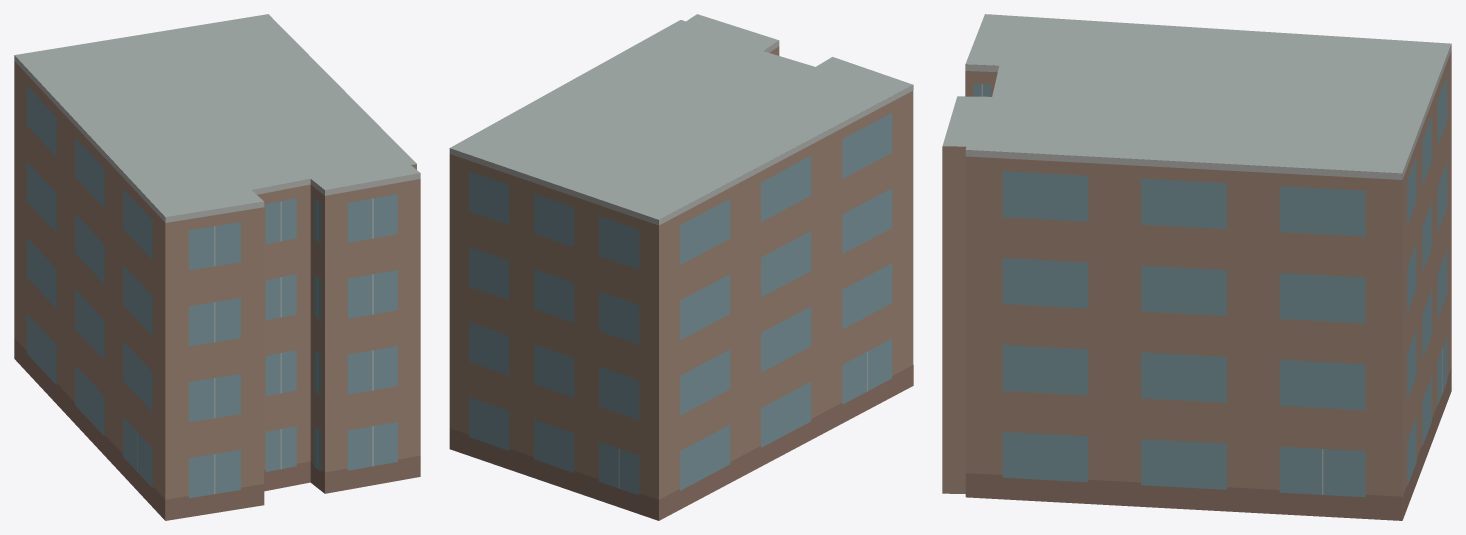
The model's file is survey-upis-32511638.glb.
The picture shows the model from 3 angles, left to right: view 1: azimuth 30°, elevation 25°; view 2: azimuth 150°, elevation 25°; view 3: azimuth 270°, elevation 25°; orthographic projection. The views are drawn at different scales.
Visible parts, largest first — view 1: survey-upis-32511638.tmp; view 2: survey-upis-32511638.tmp; view 3: survey-upis-32511638.tmp.
Boxes of the visible parts, x1,y1,x2,y2 form: survey-upis-32511638.tmp: [14, 14, 420, 520]; survey-upis-32511638.tmp: [449, 14, 913, 520]; survey-upis-32511638.tmp: [942, 14, 1451, 520].
Bounding box in the file's own units: 12.6 × 12.8 × 17.
